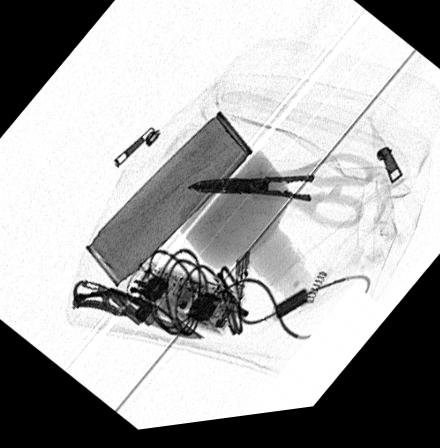Knife: (69, 284, 202, 344)
Scissors: (186, 162, 375, 236)
